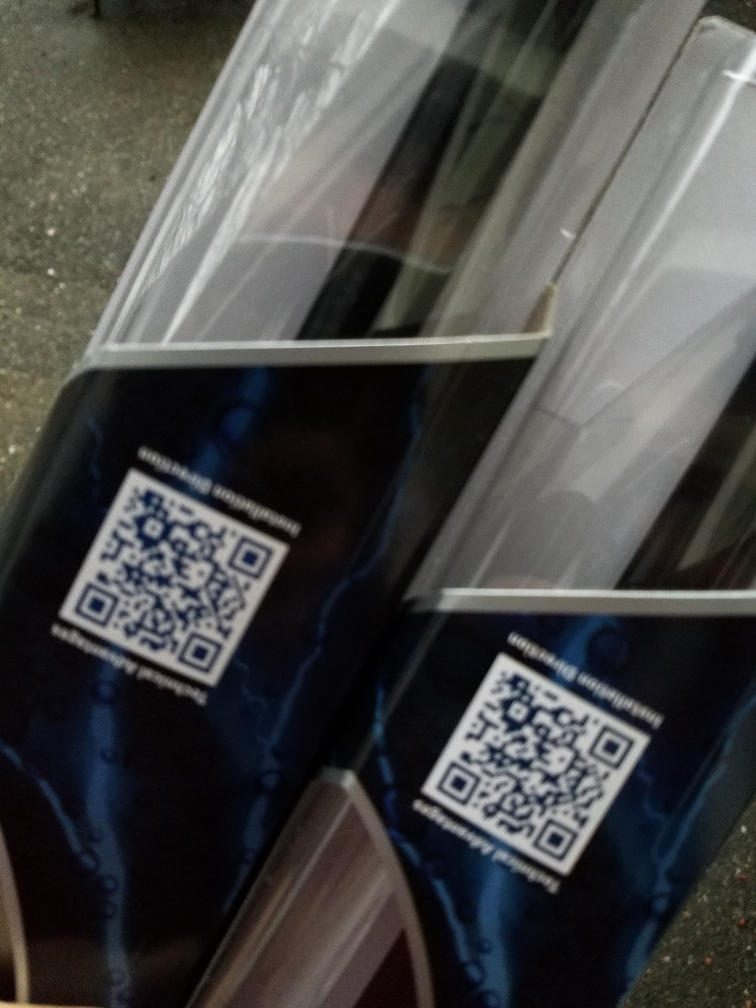QR_CODE: (398, 602, 696, 915), (30, 412, 309, 728)
